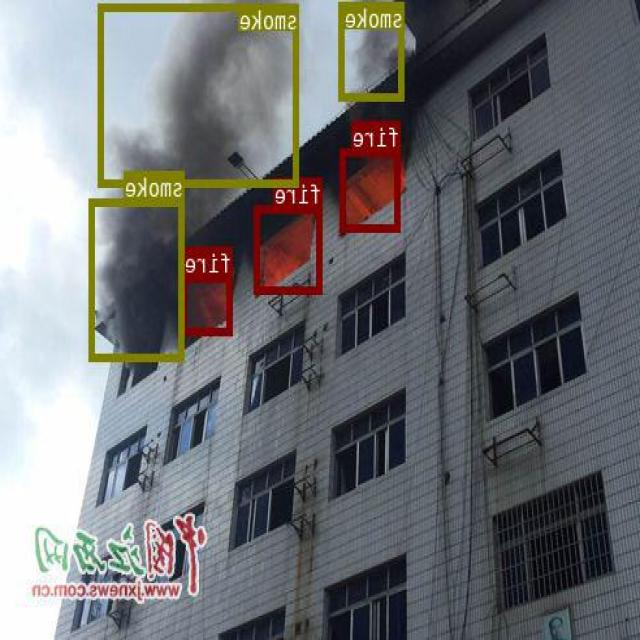fire: (256, 205, 323, 292), (342, 147, 402, 230), (182, 274, 234, 334)
smoke: (100, 2, 300, 186), (90, 197, 186, 360), (340, 2, 406, 98)
